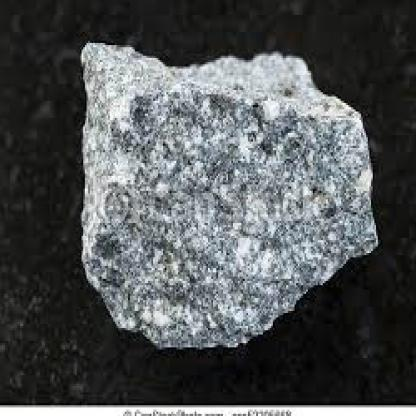Igneous_Diorite: (70, 32, 374, 354)
